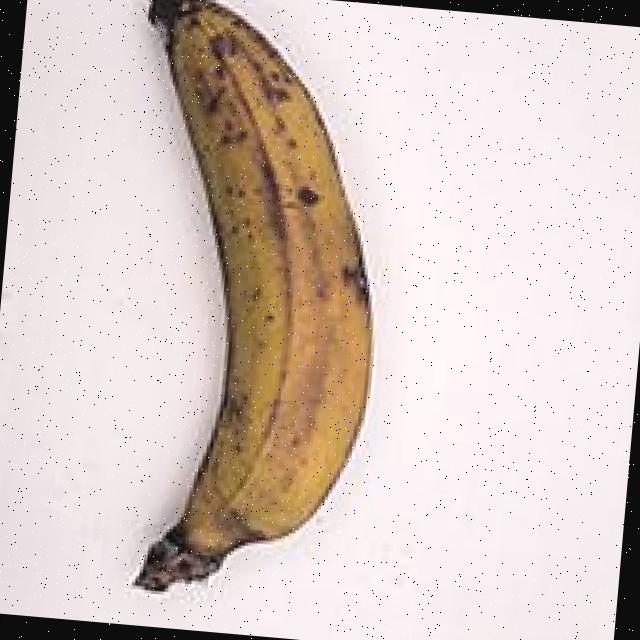Overripe: (34, 0, 443, 627)
